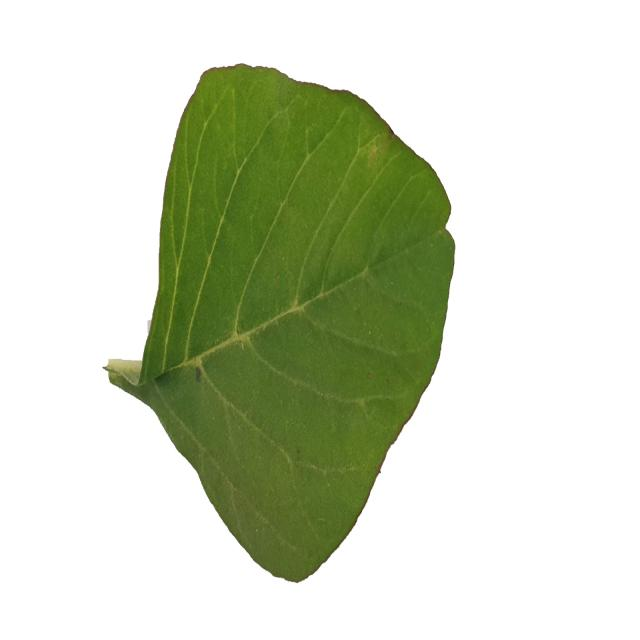Medicinal-Arive Dantu: (105, 62, 456, 580)
